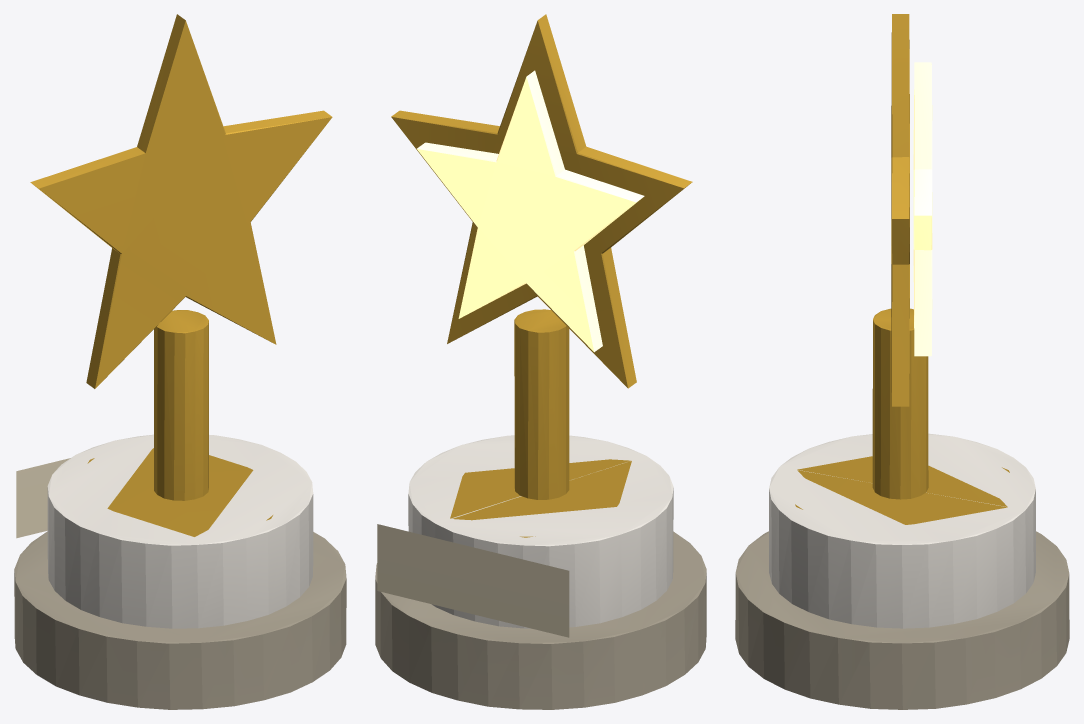
Rendered from trophy_star_low.glb.
The picture shows the model from 3 angles, left to right: view 1: azimuth 30°, elevation 25°; view 2: azimuth 150°, elevation 25°; view 3: azimuth 270°, elevation 25°; orthographic projection.
Visible parts, largest first — view 1: common_pedestal, symbol, trophy_plate; view 2: common_pedestal, symbol, trophy_plate; view 3: common_pedestal, symbol.
Boxes of the visible parts, bbox=[...] form: common_pedestal: bbox=[14, 434, 346, 709]; symbol: bbox=[30, 14, 332, 500]; trophy_plate: bbox=[16, 458, 70, 538]; common_pedestal: bbox=[375, 435, 706, 709]; symbol: bbox=[391, 14, 692, 499]; trophy_plate: bbox=[377, 524, 569, 637]; common_pedestal: bbox=[735, 433, 1069, 709]; symbol: bbox=[872, 14, 932, 499].
Bounding box in the file's own units: 0.9158 × 1.86 × 0.8987.
